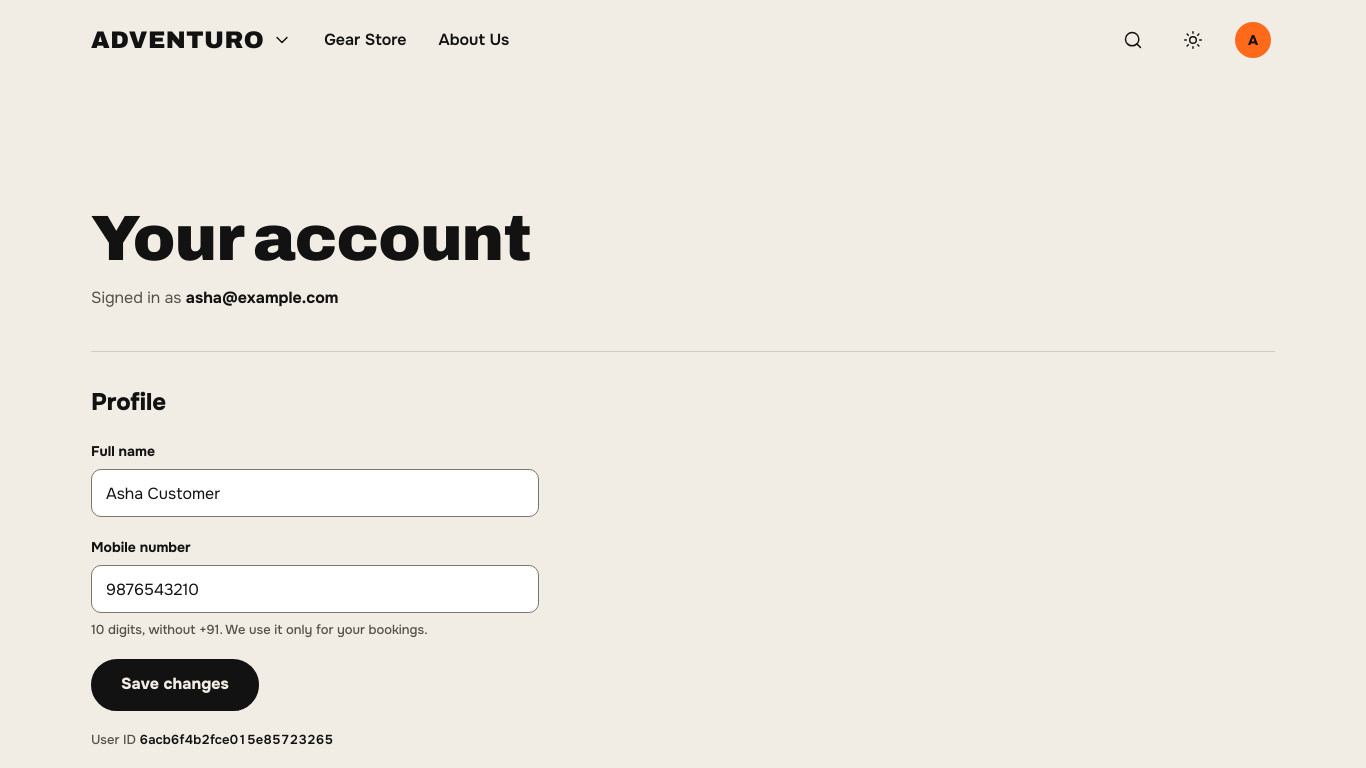
AccountMenu › stays signed in and explains when signing out fails
The image size is (1366, 768).
Click the button named "Account". click: (1253,40)
box: [1231,18,1275,62]
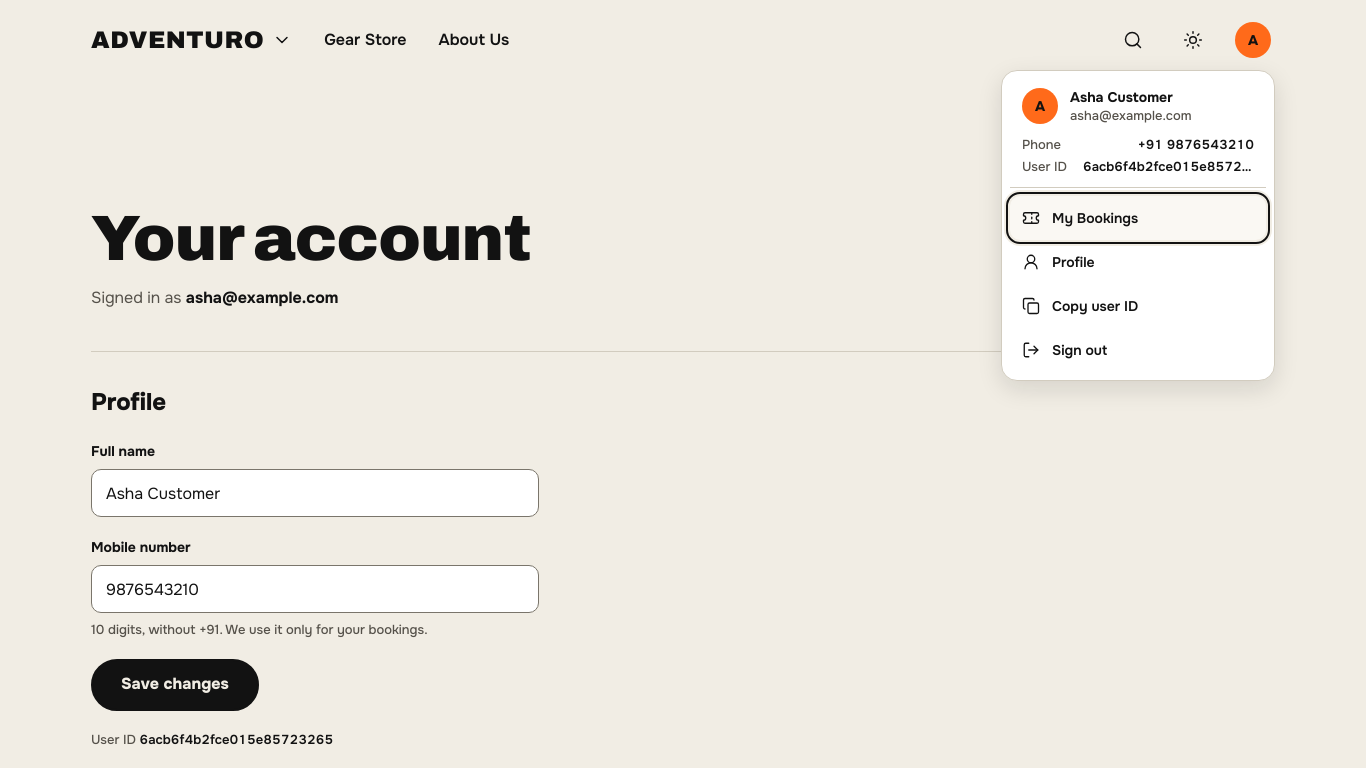
Click the menu item "Sign out". click: (1138,350)
box: [1010,328,1266,372]
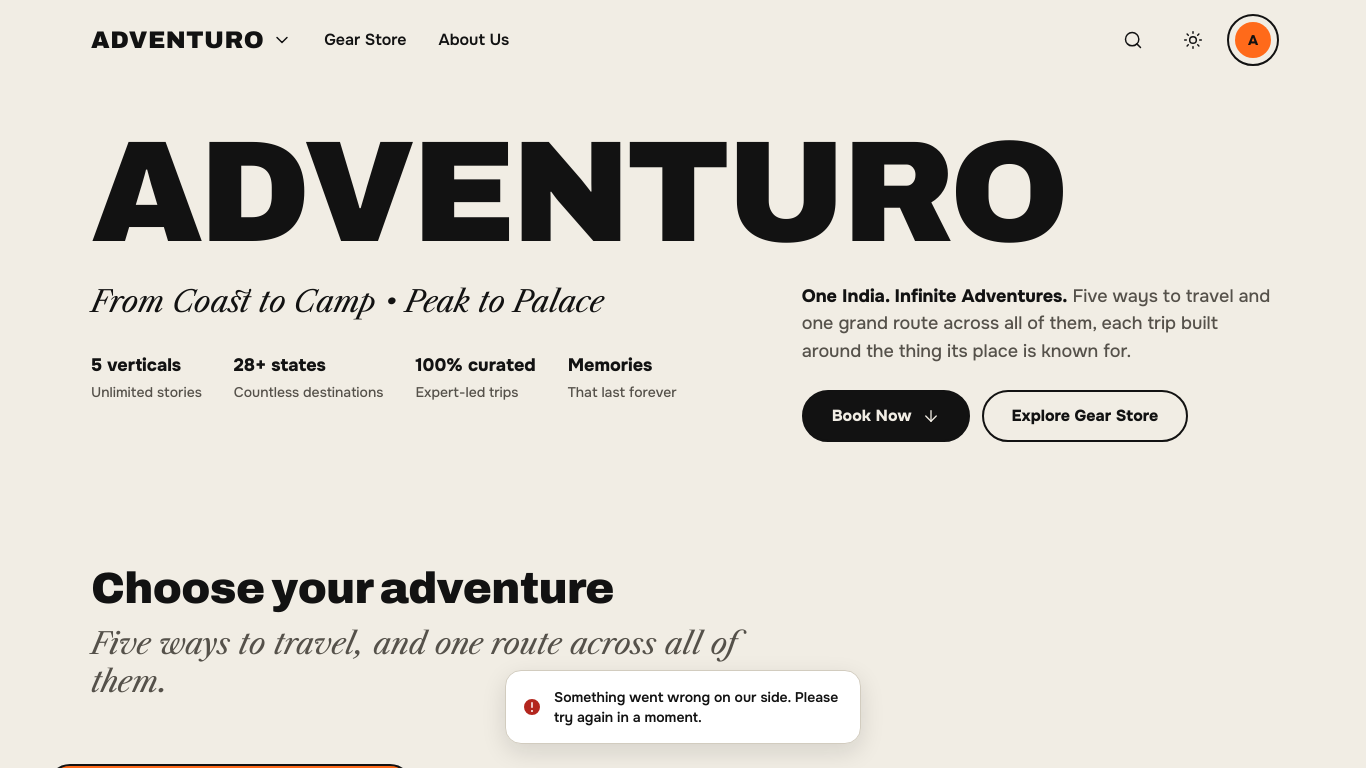
Check: the button named "Account" is shown, box [1231,18,1275,62]
Check: the text "Something went wrong on our side. Please try again in a moment." is shown, box [554,687,844,727]
